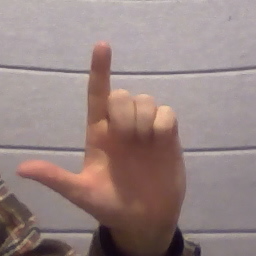L: (13, 40, 188, 226)
